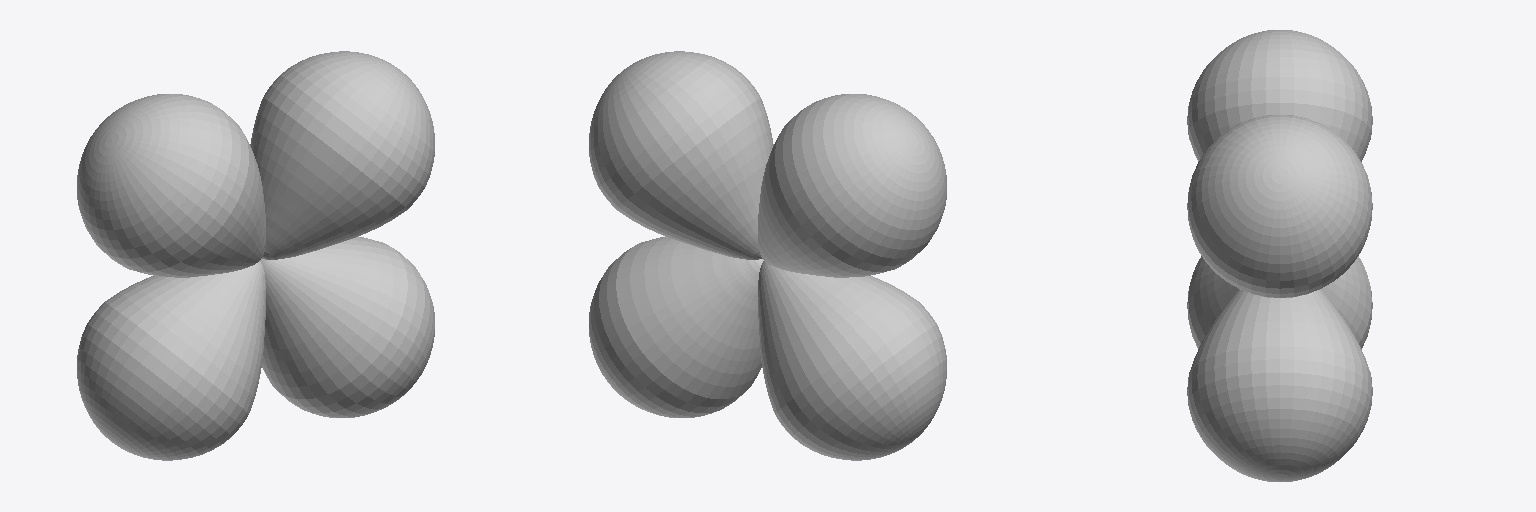
The model's file is Dyz.obj.
3 renders of one model, left to right at view 1: azimuth 30°, elevation 25°; view 2: azimuth 150°, elevation 25°; view 3: azimuth 270°, elevation 25°, orthographic.
Parts seen in each view (by area): view 1: polySurface15 Dgui; view 2: polySurface15 Dgui; view 3: polySurface15 Dgui.
Part boxes in pixels (left/top/right/bottom): polySurface15 Dgui: left=77, top=51, right=434, bottom=460; polySurface15 Dgui: left=589, top=51, right=946, bottom=460; polySurface15 Dgui: left=1187, top=30, right=1372, bottom=481.
Bounding box in the file's own units: 45.06 × 45.06 × 21.7.